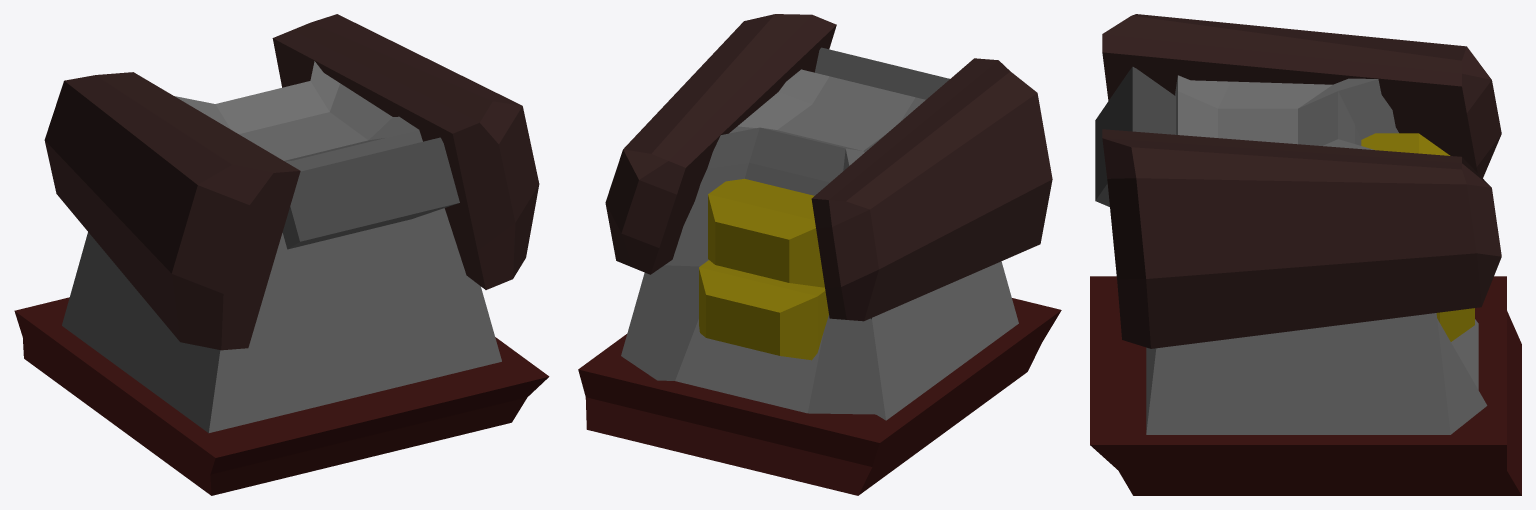
The model's file is BossMechBody.gltf.
3 renders of one model, left to right at view 1: azimuth 30°, elevation 25°; view 2: azimuth 150°, elevation 25°; view 3: azimuth 270°, elevation 25°, orthographic. The views are drawn at different scales.
Parts seen in each view (by area): view 1: 立方体; view 2: 立方体; view 3: 立方体.
Part boxes in pixels (x1,y1,x2,y2): 立方体: (14,14,549,495); 立方体: (578,14,1061,495); 立方体: (1090,14,1521,495).
Bounding box in the file's own units: 1.64 × 1.4 × 1.61.
